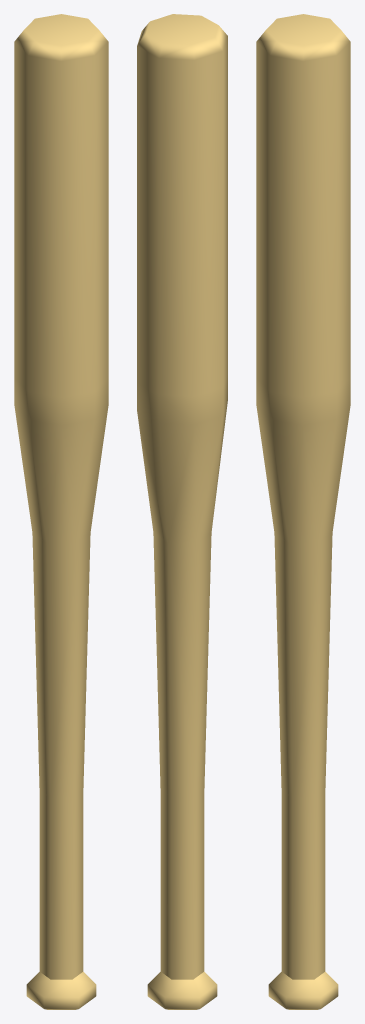
The model's file is SM_baseball_bat_001.obj.
3 renders of one model, left to right at view 1: azimuth 90°, elevation 25°; view 2: azimuth 150°, elevation 25°; view 3: azimuth 270°, elevation 25°, orthographic.
Visible parts, largest first — view 1: SM_baseball_bat_001_M_Material; view 2: SM_baseball_bat_001_M_Material; view 3: SM_baseball_bat_001_M_Material.
Boxes of the visible parts, left/top/right/bottom form: SM_baseball_bat_001_M_Material: left=14, top=14, right=108, bottom=1009; SM_baseball_bat_001_M_Material: left=137, top=14, right=227, bottom=1009; SM_baseball_bat_001_M_Material: left=256, top=14, right=350, bottom=1009.
Bounding box in the file's own units: 0.0857 × 0.9755 × 0.0857.
1 material, 1 textured.
